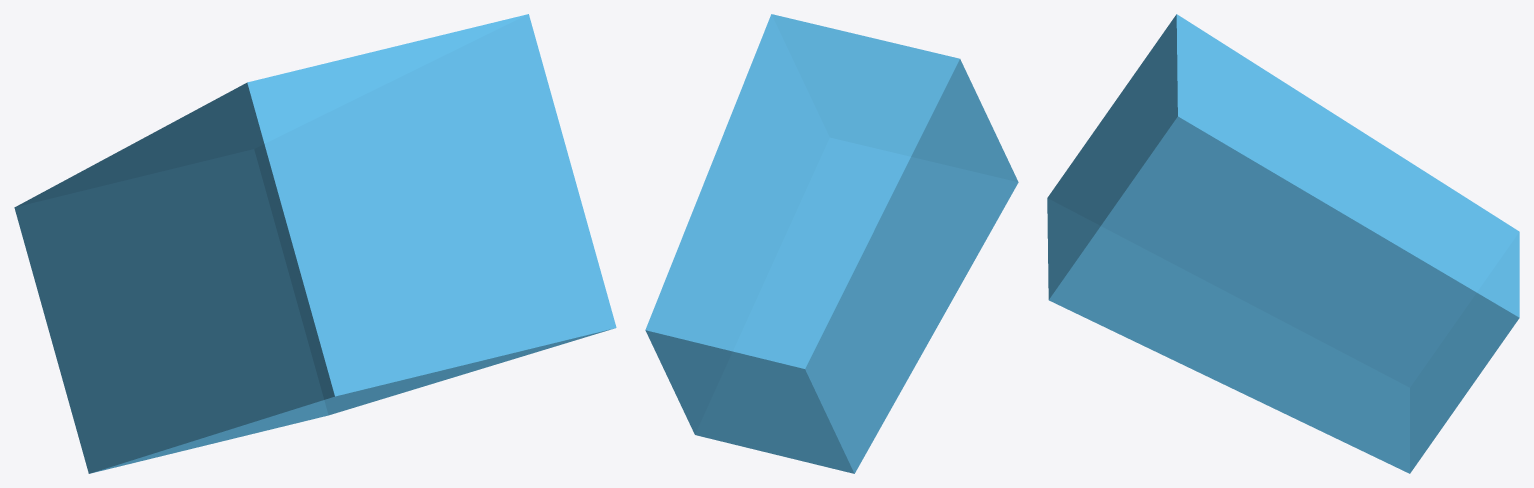
Rendered from Event_421364160_HBrechit_25.fbx.
3 renders of one model, left to right at view 1: azimuth 30°, elevation 25°; view 2: azimuth 150°, elevation 25°; view 3: azimuth 270°, elevation 25°, orthographic. The views are drawn at different scales.
Visible parts, largest first — view 1: Model; view 2: Model; view 3: Model.
Part boxes in pixels (x1,y1,x2,y2): Model: [14, 14, 616, 473]; Model: [645, 14, 1018, 473]; Model: [1047, 14, 1519, 473].
Bounding box in the file's own units: 0.4726 × 0.8112 × 0.9292.
